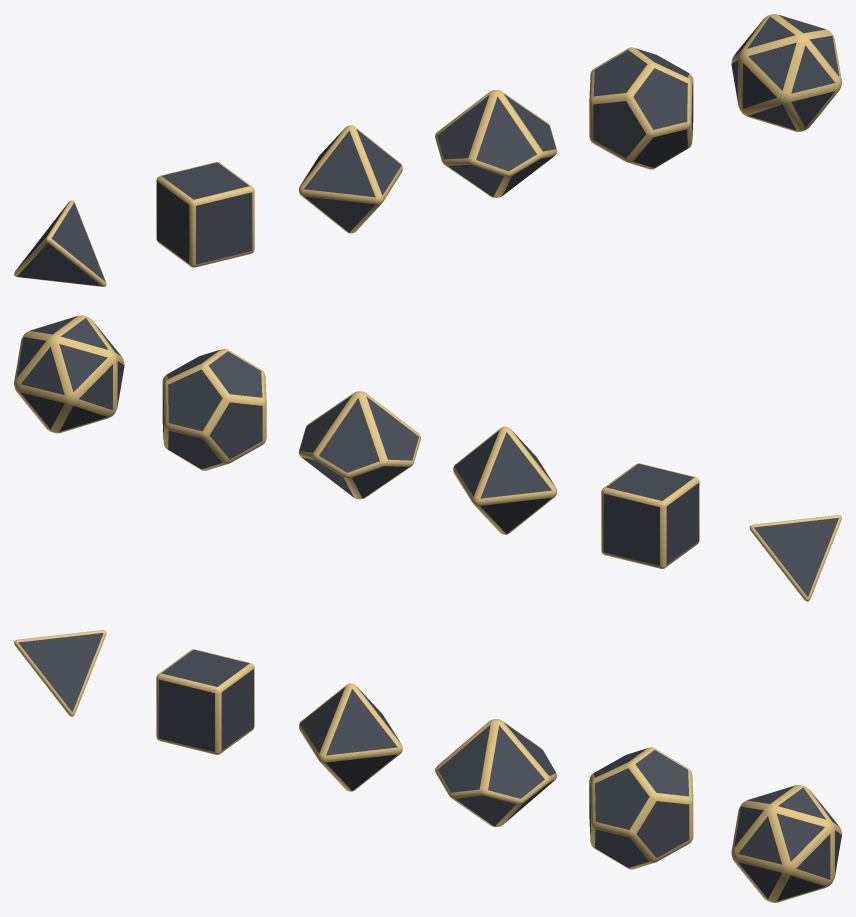
File: dice.glb
3 views of the same model, one above another, from view 1: azimuth 30°, elevation 25°; view 2: azimuth 150°, elevation 25°; view 3: azimuth 330°, elevation 25° (orthographic).
Visible parts, largest first — view 1: d12, d20, d6, d10, d8, d4; view 2: d12, d20, d6, d10, d8, d4; view 3: d12, d20, d6, d10, d8, d4.
Part boxes in pixels (box(x1,y1,x2,y2)): d12: box(589, 47, 693, 169); d20: box(731, 14, 841, 131); d6: box(156, 162, 254, 267); d10: box(435, 90, 557, 197); d8: box(299, 125, 402, 233); d4: box(14, 200, 106, 286); d12: box(162, 348, 266, 470); d20: box(14, 315, 124, 433); d6: box(601, 463, 699, 568); d10: box(298, 391, 420, 499); d8: box(453, 426, 556, 534); d4: box(749, 515, 841, 601); d12: box(589, 747, 693, 869); d20: box(731, 785, 841, 902); d6: box(156, 649, 254, 754); d10: box(435, 719, 557, 827); d8: box(299, 683, 402, 791); d4: box(14, 630, 106, 716).
Bounding box in the file's own units: 14.37 × 1.82 × 1.82.
